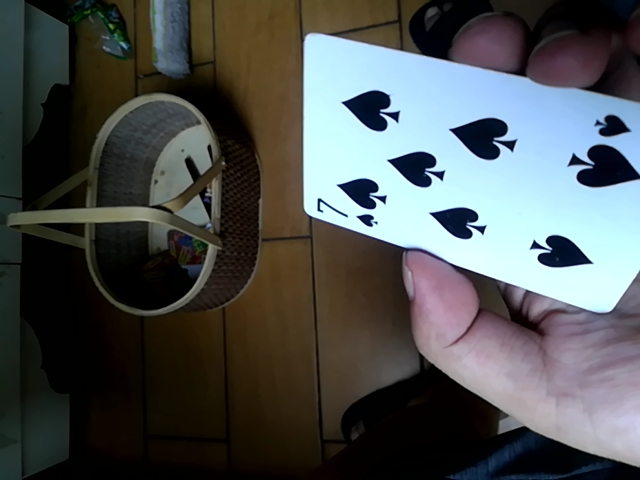ht 7: (301, 33, 640, 309)
